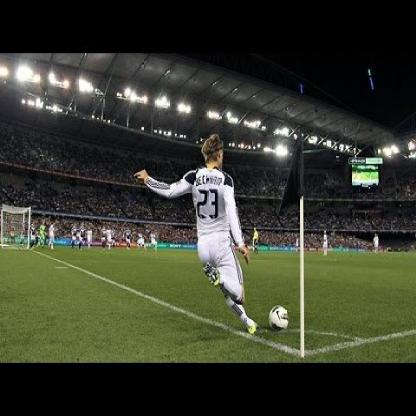corner kick: (149, 107, 362, 371)
